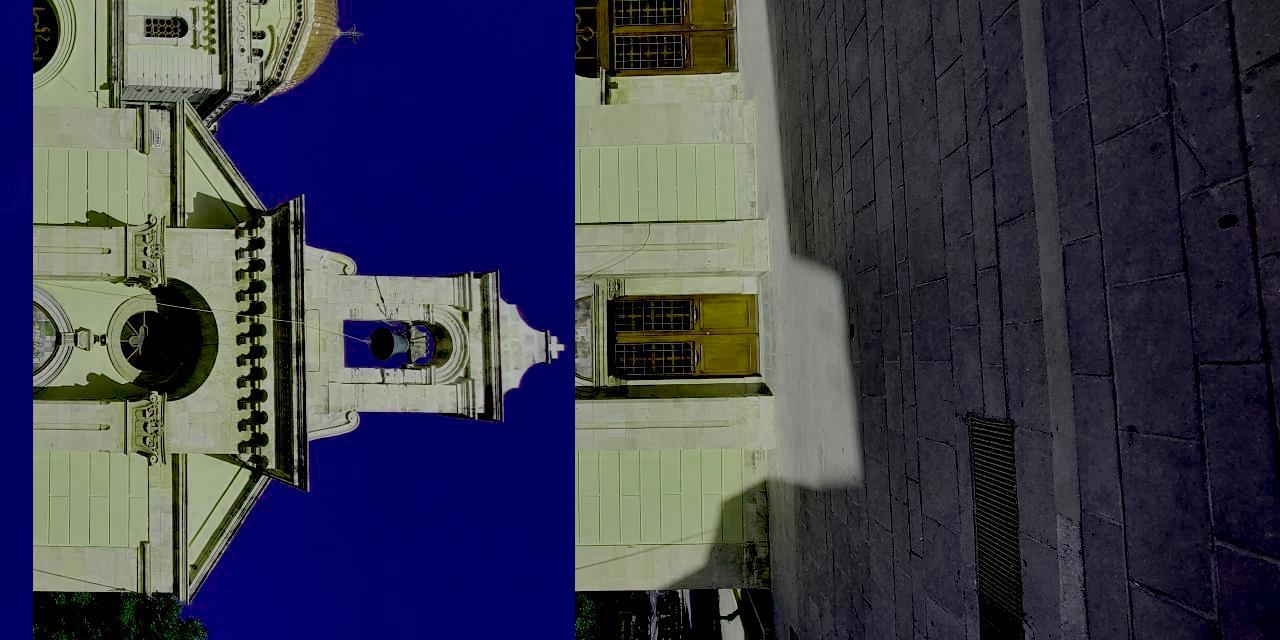Agios Minas: (34, 1, 576, 640)
